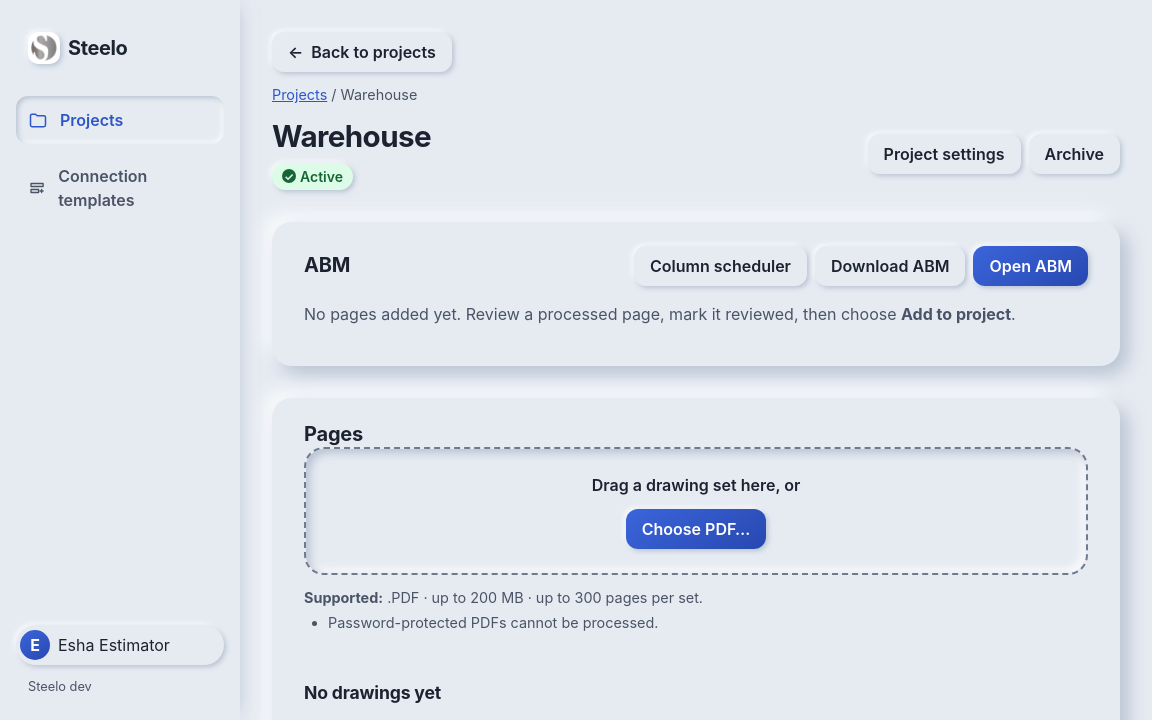
Test: Project details › renames the project and changes its settings
The width and height of the screenshot is (1152, 720).
Click the button "Project settings" at coordinates (944, 154), box [868,134,1020,174]
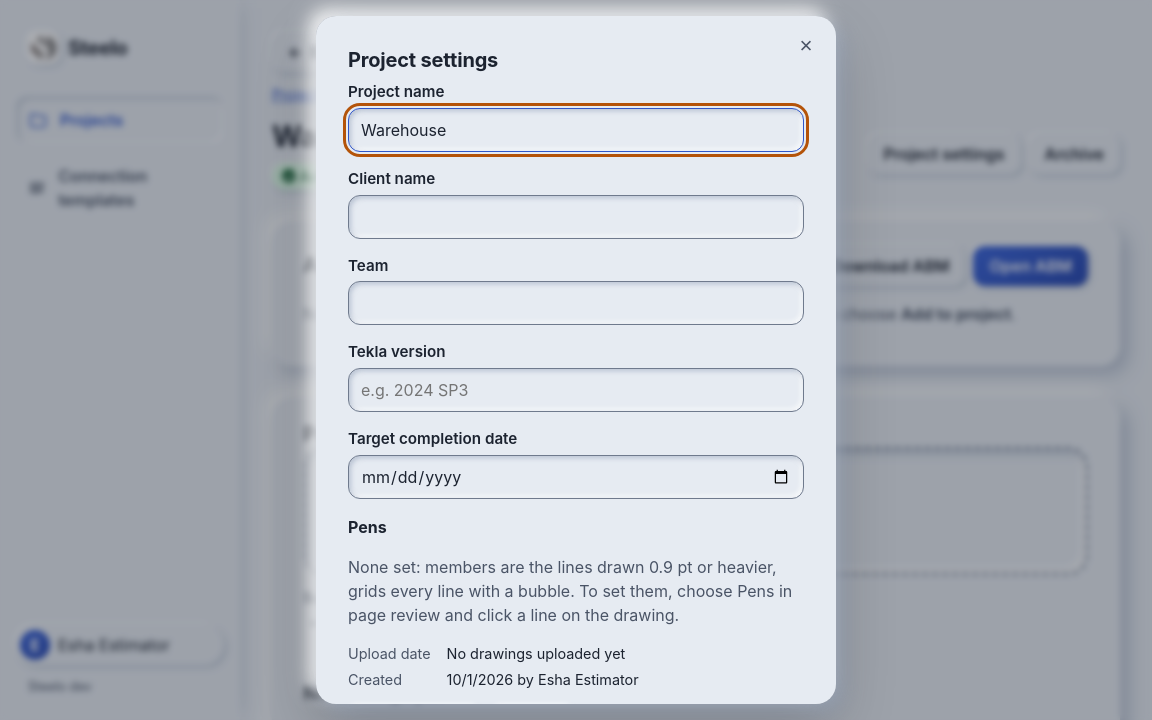
Now the text "No drawings uploaded yet" is shown, box [447,645,625,662]
Replace the text in the field labelled "Project name" with "Warehouse Rev B" at coordinates (576, 130), box [348,108,804,152]
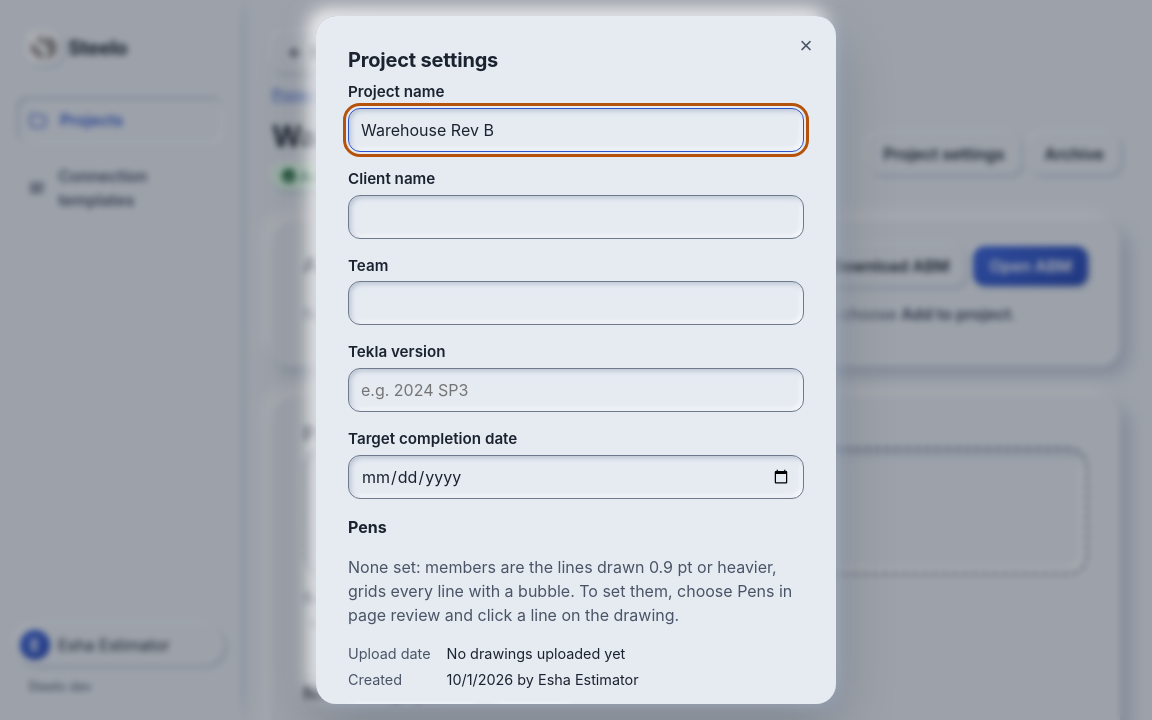
Type "Team South" into the field labelled "Team" at coordinates (576, 303), box [348,281,804,325]
(page scrolled)
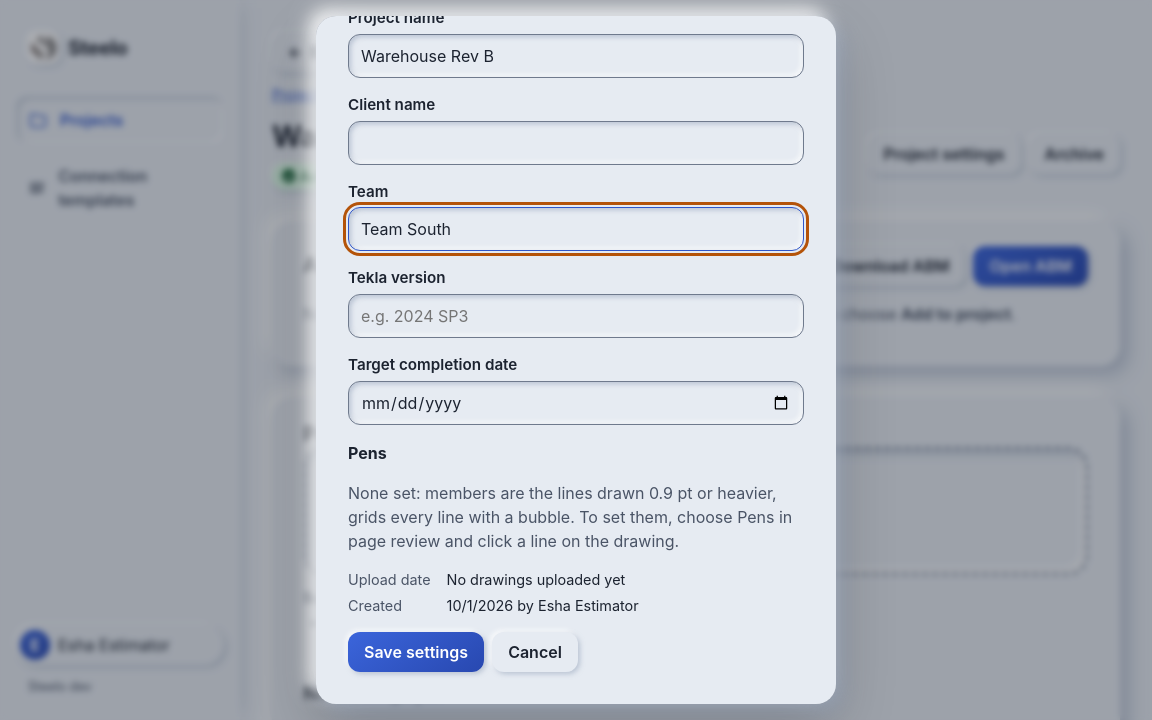
Click the button "Save settings" at coordinates (416, 652), box [348,632,484,672]
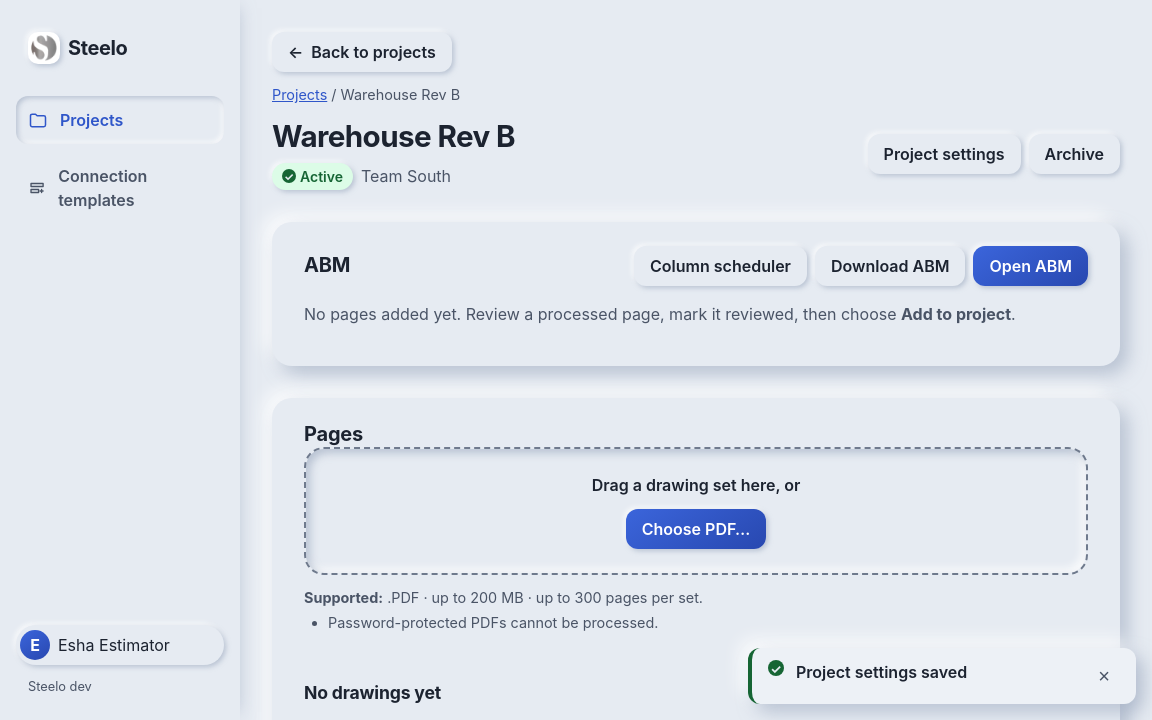
Now the heading "Warehouse Rev B" is shown, box [272,118,515,155]
Now the text "Team South" is shown, box [361,164,451,188]
